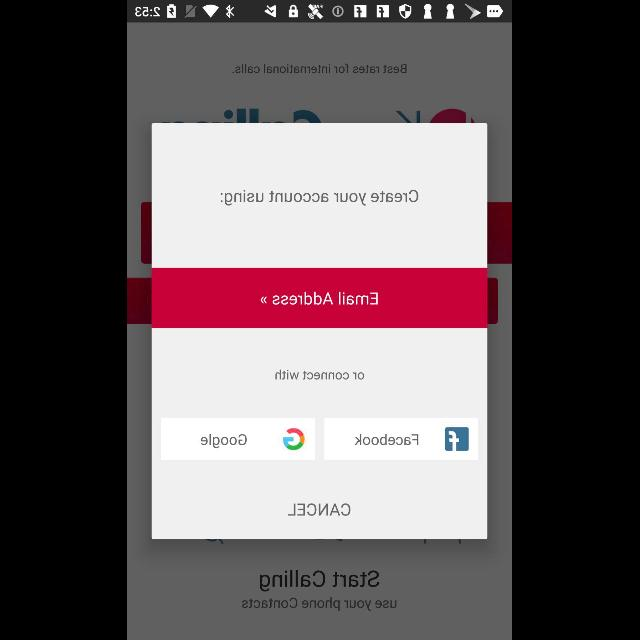panel: (152, 123, 488, 539)
text: (221, 190, 419, 206), (260, 570, 380, 592), (242, 598, 398, 612), (233, 64, 407, 74), (288, 502, 352, 516), (276, 370, 364, 380)
textbutton: (152, 268, 488, 328), (162, 418, 316, 460), (325, 418, 479, 460)
uppertaskbar: (128, 1, 512, 23)
